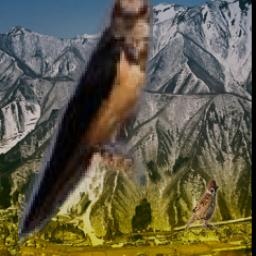Sparrow: (185, 180, 219, 231)
Swallow: (17, 0, 152, 245)
